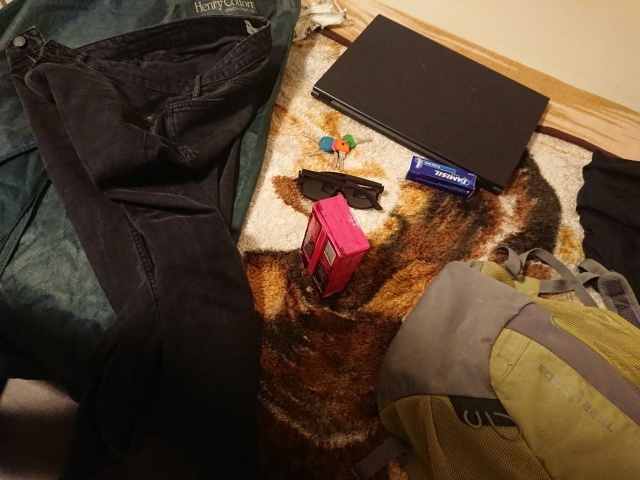Barcaffe Classic Original 225g: (298, 190, 372, 303)
